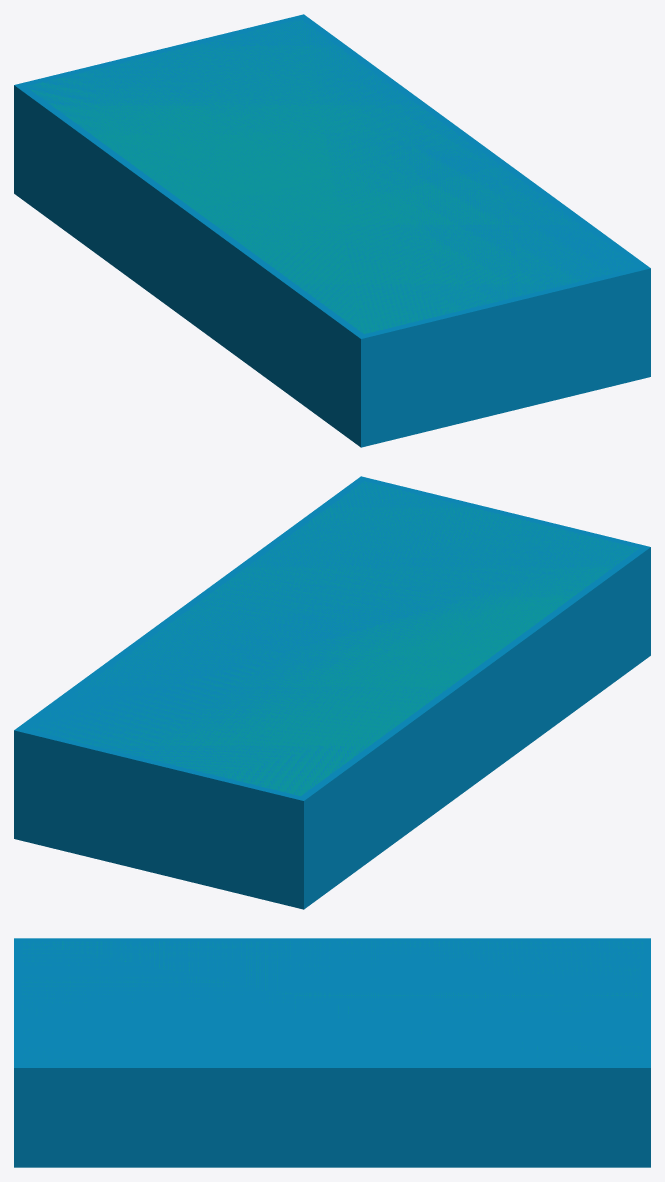
Rendered from Plumbing and Heating_Roof_IfcSpace.dae.
3 views of the same model, one above another, from view 1: azimuth 30°, elevation 25°; view 2: azimuth 150°, elevation 25°; view 3: azimuth 270°, elevation 25° (orthographic). The views are drawn at different scales.
Parts seen in each view (by area): view 1: 0CRPz_SEr94Ah74P8LhwLP, 3YWx8nQAj0DhPfgLl9dDey; view 2: 0CRPz_SEr94Ah74P8LhwLP, 3YWx8nQAj0DhPfgLl9dDey; view 3: 0CRPz_SEr94Ah74P8LhwLP.
Boxes of the visible parts, x1,y1,x2,y2 form: 0CRPz_SEr94Ah74P8LhwLP: [14, 14, 650, 447]; 3YWx8nQAj0DhPfgLl9dDey: [32, 79, 516, 332]; 0CRPz_SEr94Ah74P8LhwLP: [14, 476, 650, 909]; 3YWx8nQAj0DhPfgLl9dDey: [71, 513, 590, 795]; 0CRPz_SEr94Ah74P8LhwLP: [14, 938, 650, 1167].
Bounding box in the file's own units: 8.38 × 17.38 × 3.
